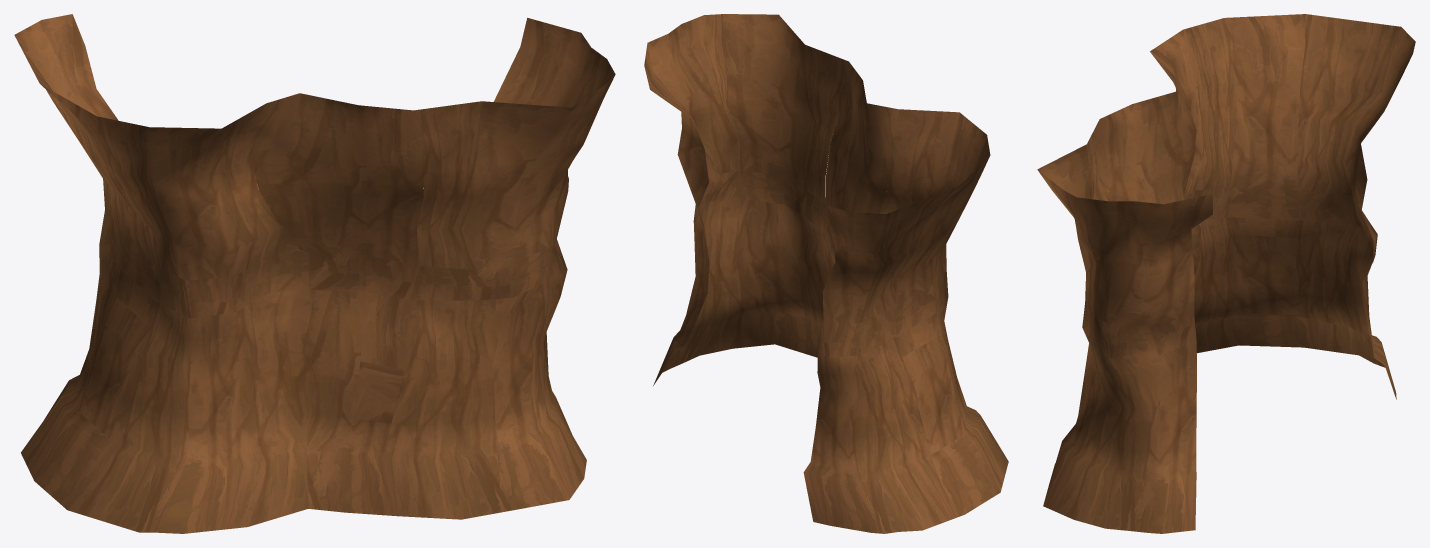
File: shakian_construct_rock01_02.FBX
The picture shows the model from 3 angles, left to right: view 1: azimuth 30°, elevation 25°; view 2: azimuth 150°, elevation 25°; view 3: azimuth 270°, elevation 25°; orthographic projection. The views are drawn at different scales.
Parts seen in each view (by area): view 1: shakian_construct_rock01_02; view 2: shakian_construct_rock01_02; view 3: shakian_construct_rock01_02.
Boxes of the visible parts, left/top/right/bottom form: shakian_construct_rock01_02: left=14, top=14, right=615, bottom=533; shakian_construct_rock01_02: left=644, top=14, right=1008, bottom=533; shakian_construct_rock01_02: left=1037, top=14, right=1415, bottom=533.
Bounding box in the file's own units: 66.88 × 53.75 × 54.84.
